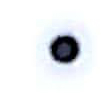cancer: (27, 16, 96, 84)
